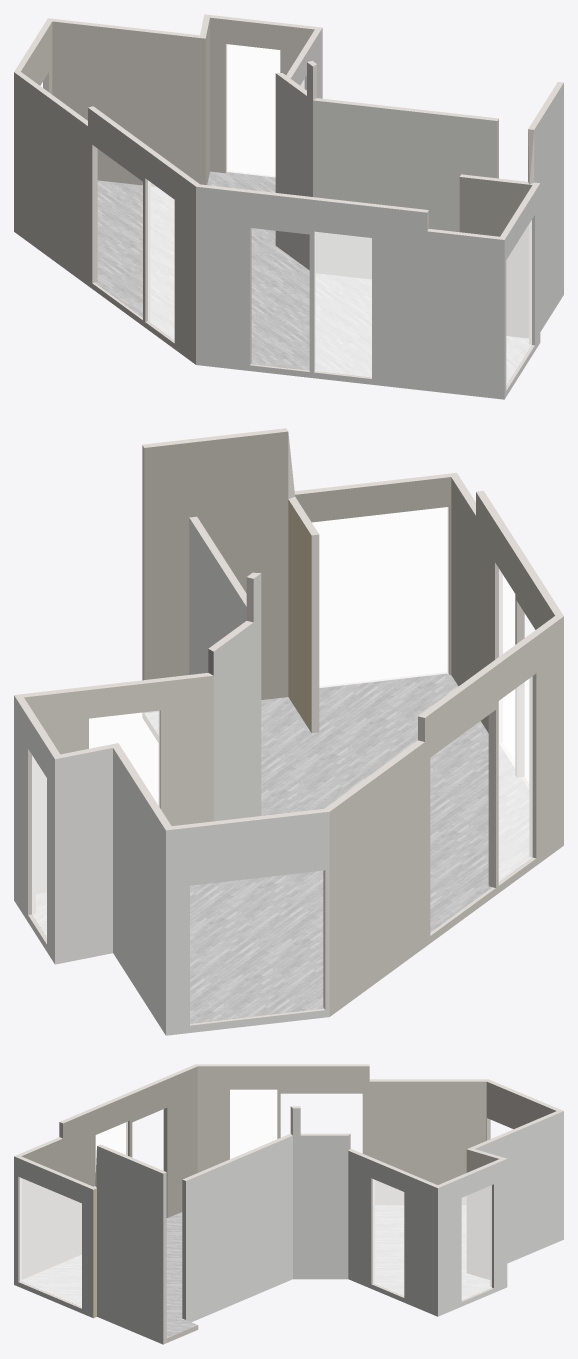
3 renders of one model, top to bottom at view 1: azimuth 30°, elevation 25°; view 2: azimuth 150°, elevation 25°; view 3: azimuth 270°, elevation 25°, orthographic. The views are drawn at different scales.
Parts seen in each view (by area): view 1: wall_0, floor_Other, wall_9, wall_23, wall_33, door_2, door_7, door_3, door_8, wall_12, wall_4, wall_17 (+15 smaller); view 2: floor_Other, wall_9, wall_37, door_0, door_5, wall_7, wall_15, wall_6, wall_10, wall_13, wall_17, door_1 (+22 smaller); view 3: wall_31, wall_5, wall_13, wall_12, wall_2, wall_1, wall_10, floor_Other, door_0, door_5, wall_8, wall_3 (+20 smaller).
Boxes of the visible parts, box(x1,y1,x2,y2) form: wall_0: box(196, 186, 504, 399); floor_Other: box(95, 171, 531, 385); wall_9: box(14, 72, 195, 364); wall_23: box(313, 100, 497, 279); wall_33: box(52, 21, 205, 186); door_2: box(315, 232, 371, 377); door_7: box(315, 232, 371, 376); door_3: box(226, 44, 279, 177); door_8: box(226, 44, 279, 176); wall_12: box(534, 83, 563, 331); wall_4: box(459, 177, 529, 338); wall_17: box(275, 62, 312, 270); floor_Other: box(32, 673, 531, 1023); wall_9: box(329, 616, 563, 1016); wall_37: box(144, 431, 288, 712); door_0: box(312, 507, 448, 687); door_5: box(312, 507, 448, 687); wall_7: box(166, 811, 329, 1035); wall_15: box(24, 675, 213, 893); wall_6: box(55, 748, 112, 964); wall_10: box(113, 748, 165, 1035); wall_13: box(451, 477, 554, 776); wall_17: box(213, 573, 261, 821); door_1: box(499, 677, 532, 881); wall_31: box(197, 1066, 486, 1204); wall_5: box(186, 1136, 292, 1322); wall_13: box(21, 1066, 197, 1279); wall_12: box(97, 1146, 163, 1344); wall_2: box(293, 1108, 348, 1279); wall_1: box(348, 1151, 437, 1316); wall_10: box(475, 1111, 563, 1263); floor_Other: box(21, 1205, 491, 1338); door_0: box(20, 1177, 81, 1306); door_5: box(20, 1178, 81, 1306); wall_8: box(438, 1159, 507, 1316); wall_3: box(14, 1156, 93, 1317).
Bounding box in the file's own units: 6.34 × 3.69 × 10.77.
Materials: 30 (1 with a texture image).
